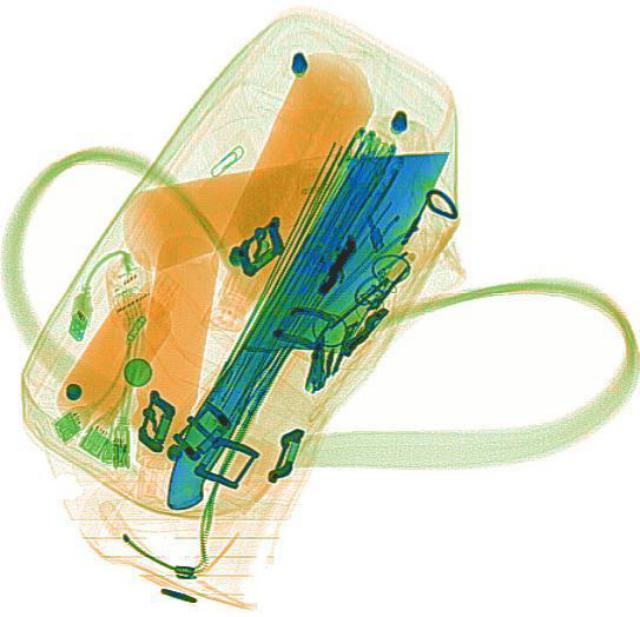Knife: (148, 112, 454, 535)
